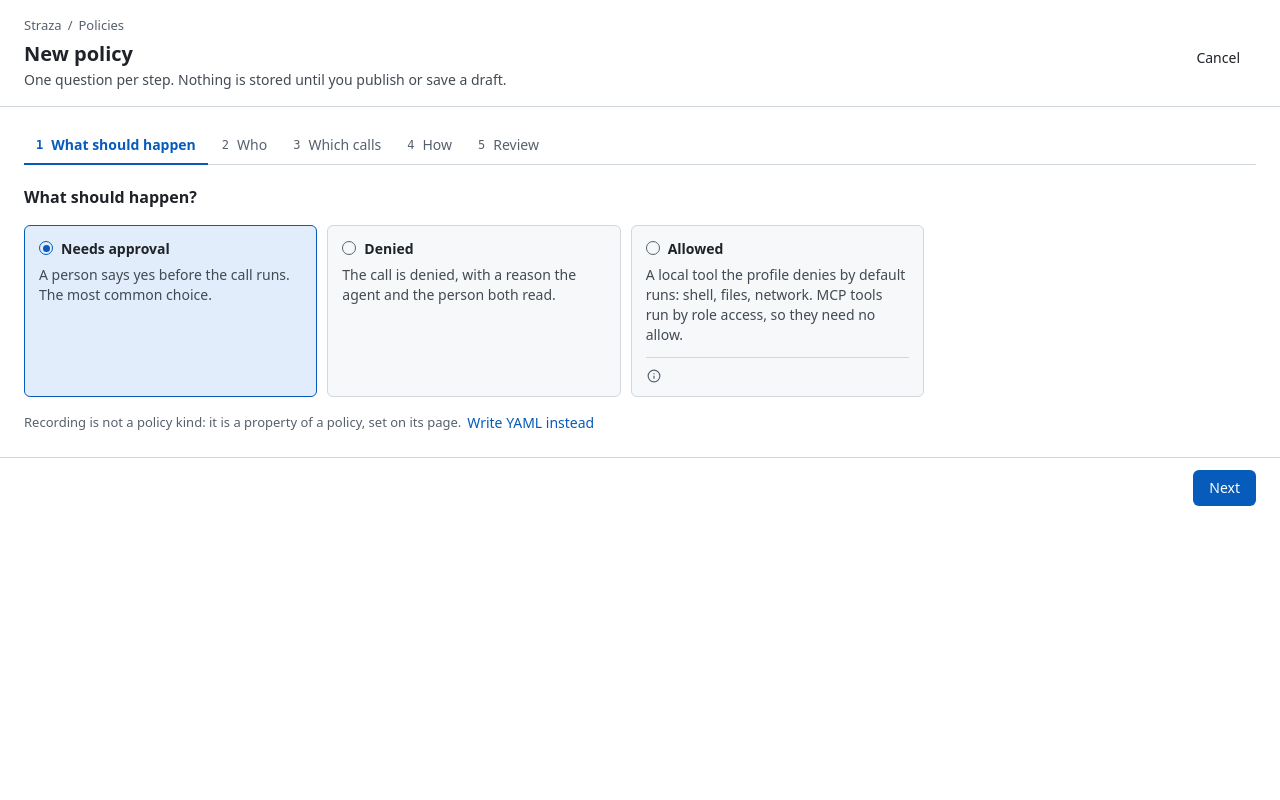
Test case: the New policy wizard › asks for Everyone or a role, and says what is missing when neither is picked
Click the button "Next": [1225, 488] box [1193, 470, 1256, 506]
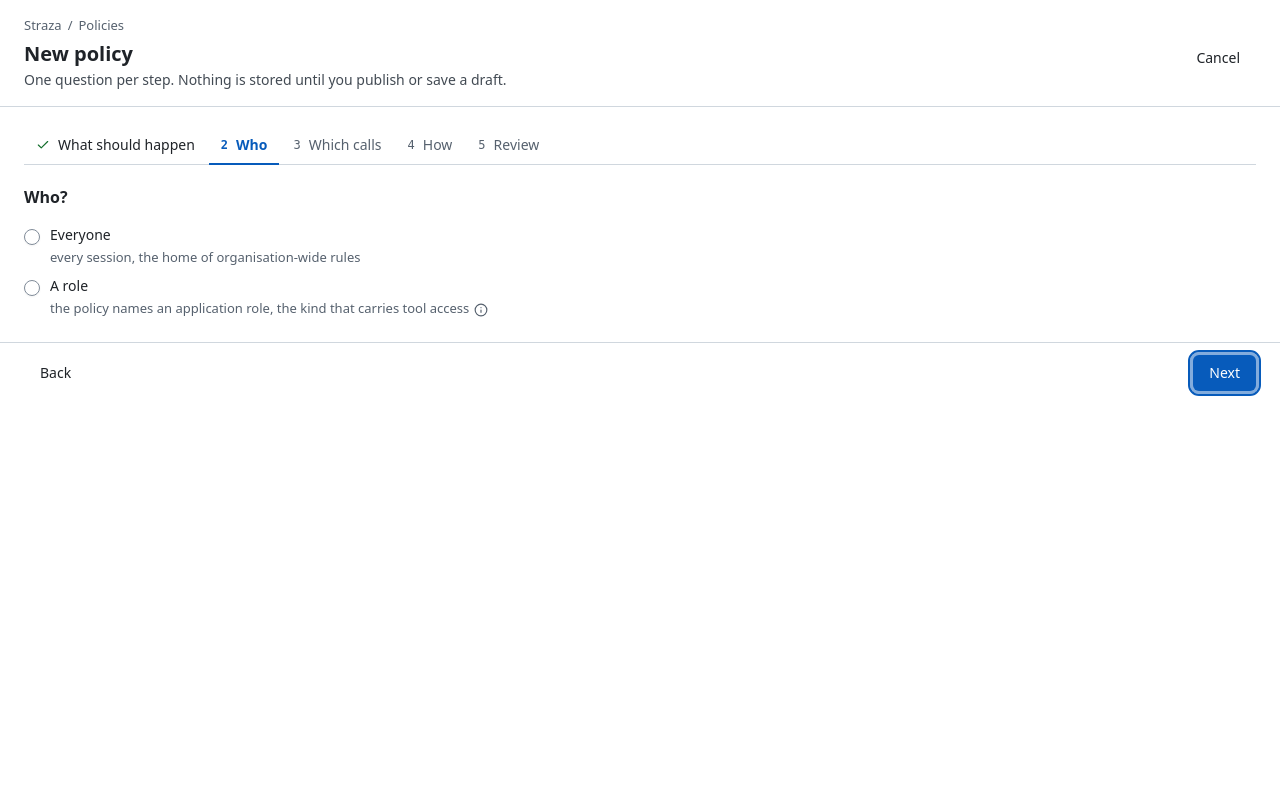
Click the button "Next": [1225, 373] box [1193, 355, 1256, 391]
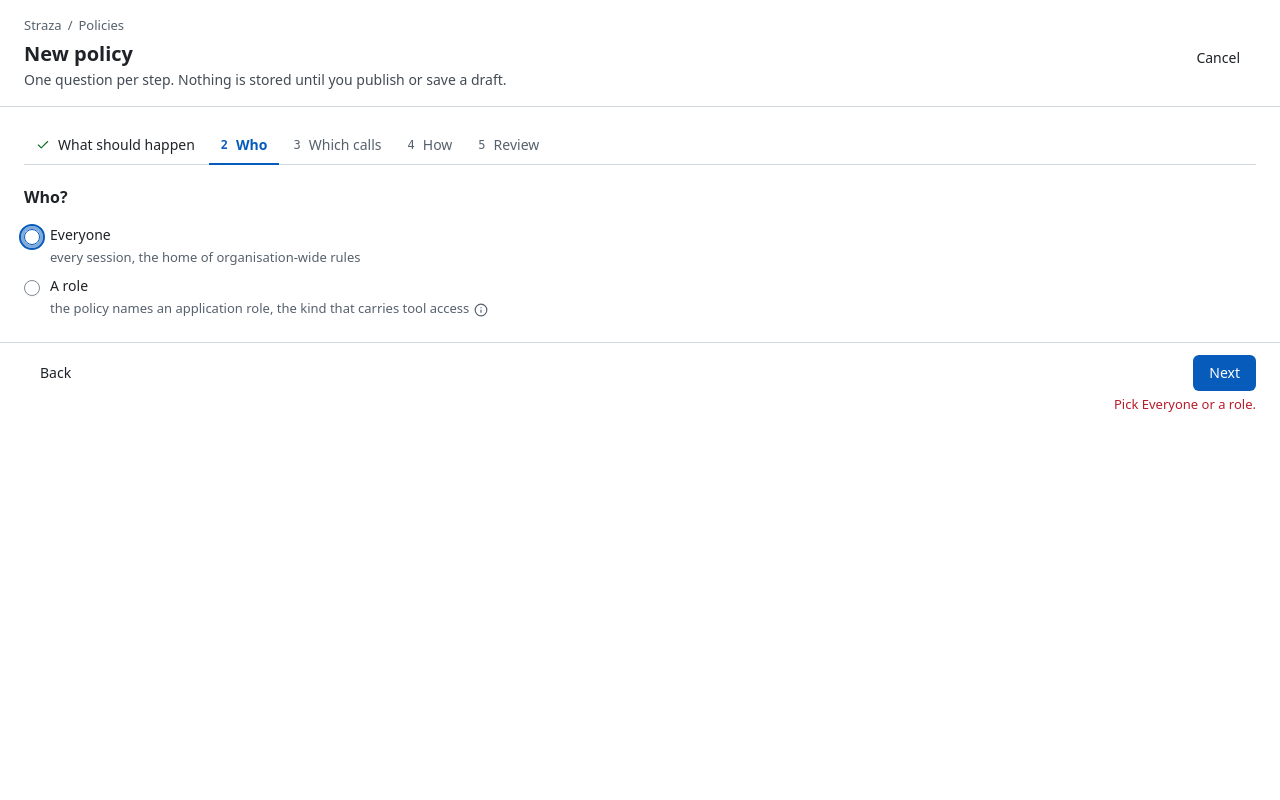
expect the text "Pick Everyone or a role." is shown: met, box [1114, 395, 1256, 413]
Click the radio button named "A role": [32, 288] box [24, 280, 40, 296]
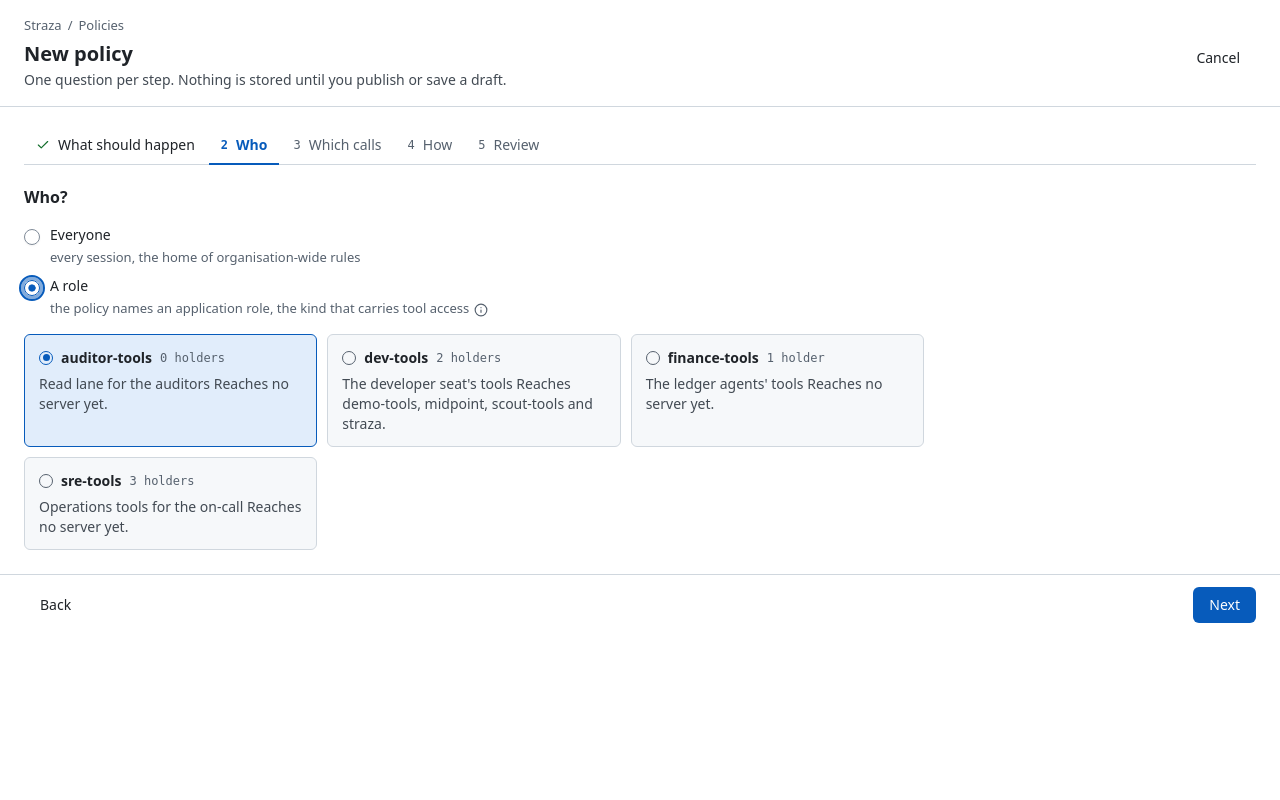
expect the radio button labelled "dev-tools" shows "2 holders": met, box [328, 335, 620, 446]
expect the radio button labelled "dev-tools" shows "demo-tools": met, box [328, 335, 620, 446]
